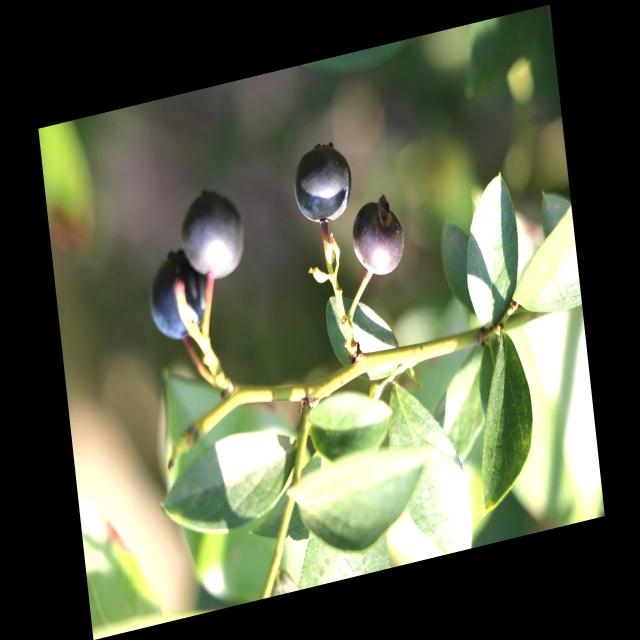blueberry: (170, 177, 253, 293), (138, 235, 220, 352), (286, 134, 360, 237), (346, 185, 412, 288)
